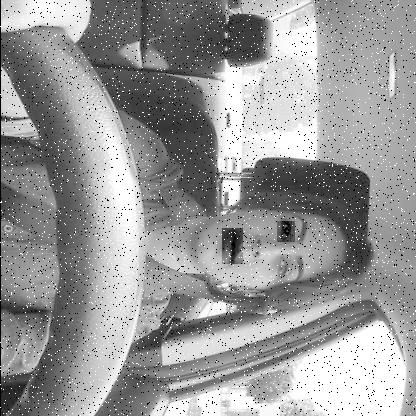seatbelt: (0, 181, 397, 314)
